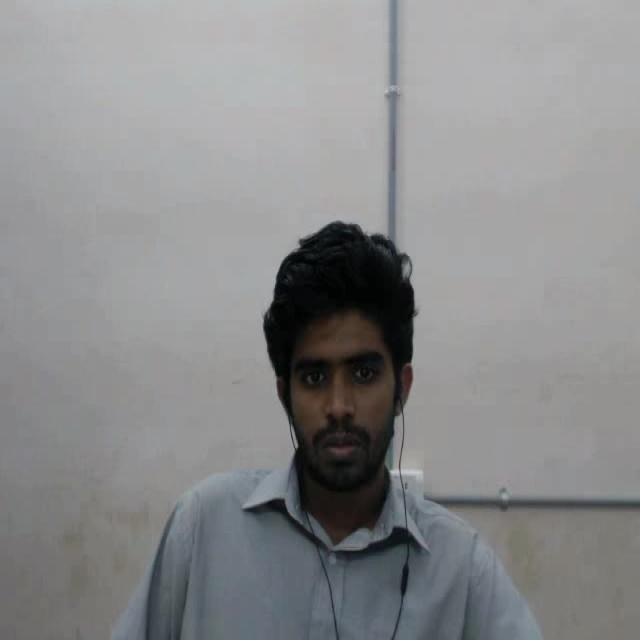Engaged: (243, 207, 440, 532)
